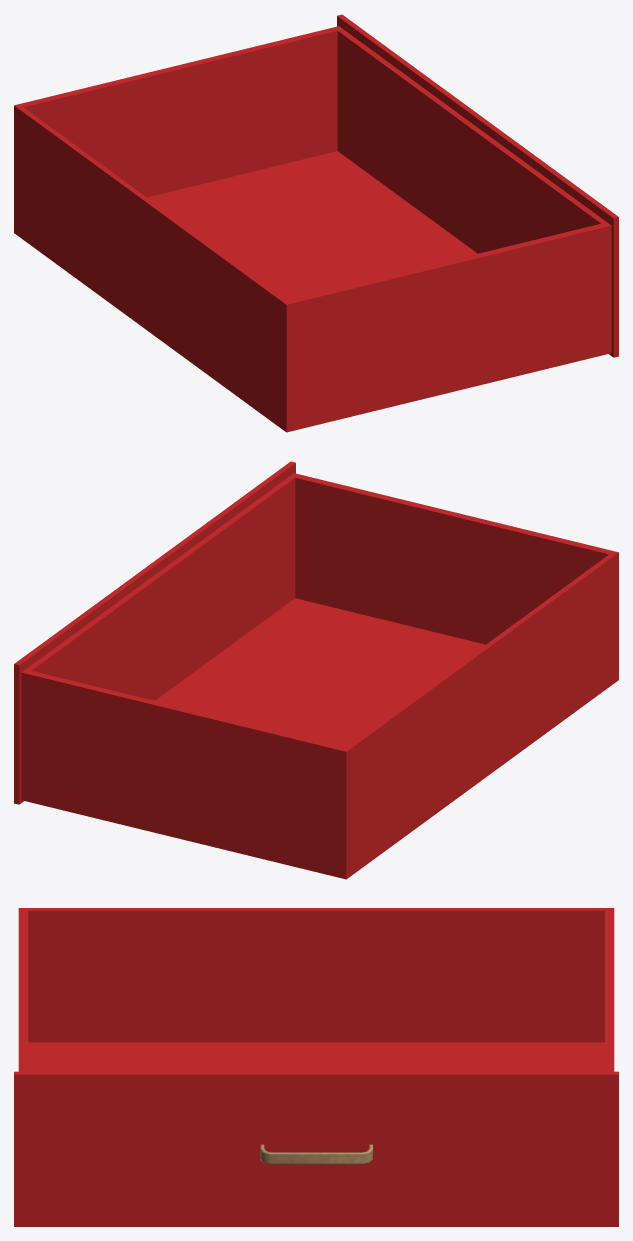
The model's file is MOD_Kitchen_counter_drawer_01.fbx.
3 views of the same model, one above another, from view 1: azimuth 30°, elevation 25°; view 2: azimuth 150°, elevation 25°; view 3: azimuth 270°, elevation 25° (orthographic). The views are drawn at different scales.
Parts seen in each view (by area): view 1: HSHP_MOD_Kitchen_counter_drawer_01; view 2: HSHP_MOD_Kitchen_counter_drawer_01; view 3: HSHP_MOD_Kitchen_counter_drawer_01.
Boxes of the visible parts, <box> form: HSHP_MOD_Kitchen_counter_drawer_01: <box>14,14,618,432</box>; HSHP_MOD_Kitchen_counter_drawer_01: <box>14,461,618,879</box>; HSHP_MOD_Kitchen_counter_drawer_01: <box>14,908,618,1226</box>.
Size of the model in its own units: 0.7112 by 0.2729 by 0.9821.
